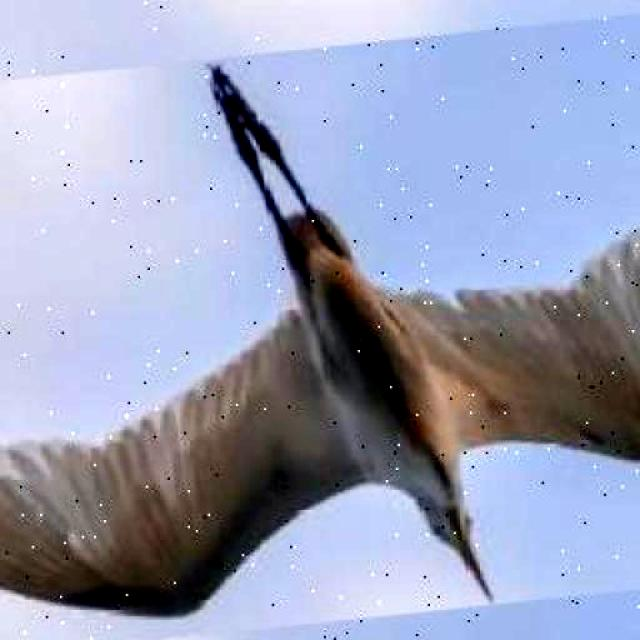airplane: (0, 2, 640, 640)
